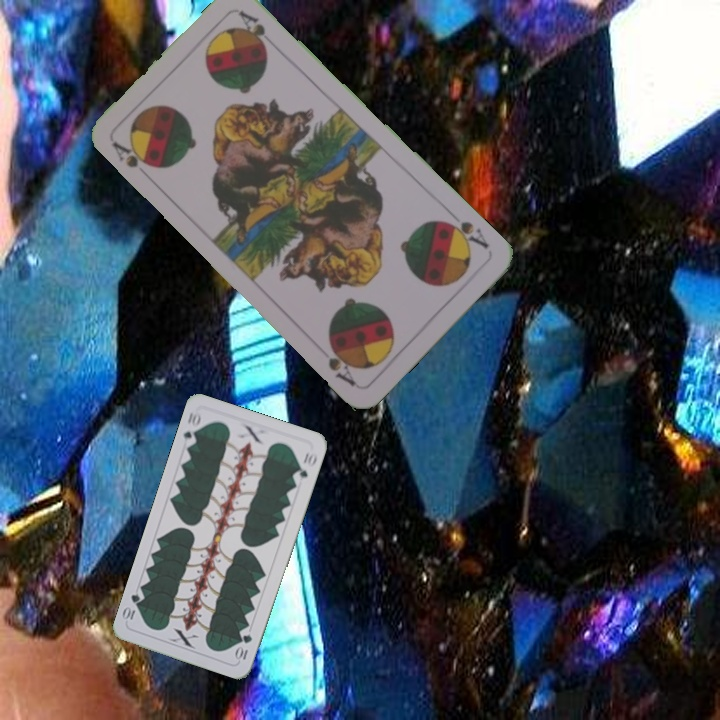G10: (179, 407, 204, 449), (232, 630, 255, 663)
SA: (438, 217, 491, 253), (107, 137, 154, 171)
